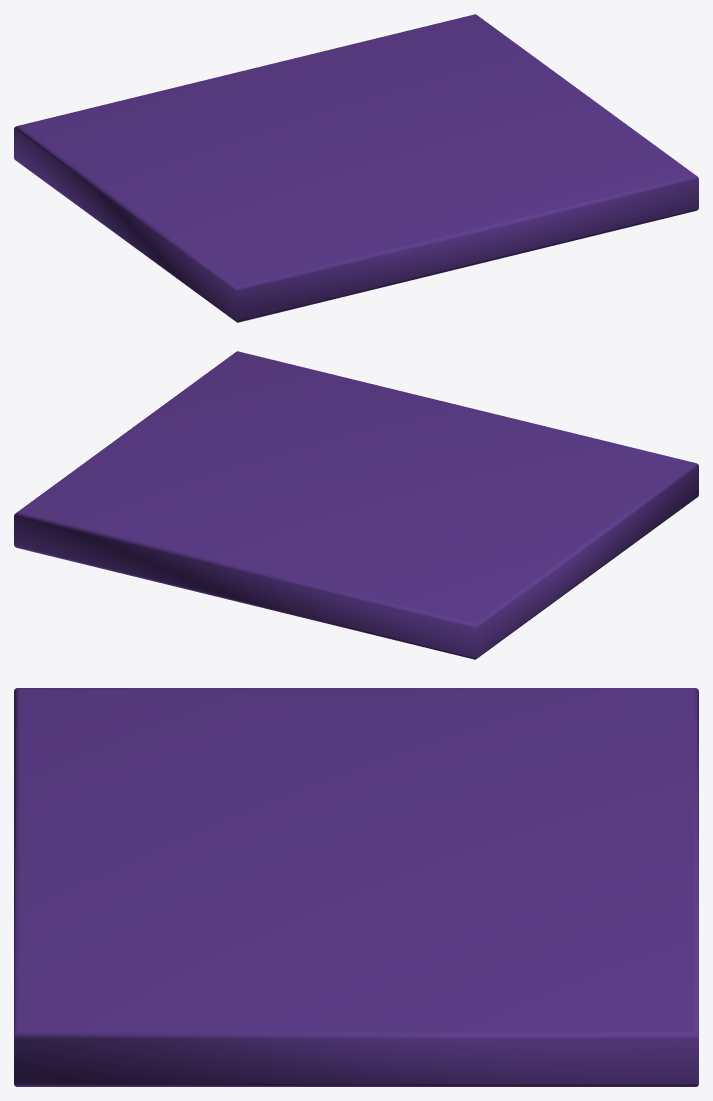
Rendered from Platform 1.fbx.
3 renders of one model, top to bottom at view 1: azimuth 30°, elevation 25°; view 2: azimuth 150°, elevation 25°; view 3: azimuth 270°, elevation 25°, orthographic. The views are drawn at different scales.
Parts seen in each view (by area): view 1: platform.001; view 2: platform.001; view 3: platform.001.
Part boxes in pixels (x1,y1,x2,y2): platform.001: [14, 14, 698, 322]; platform.001: [14, 351, 698, 659]; platform.001: [14, 688, 698, 1086].
Bounding box in the file's own units: 1.77 × 0.132 × 1.48.
Materials: 1 (1 with a texture image).
